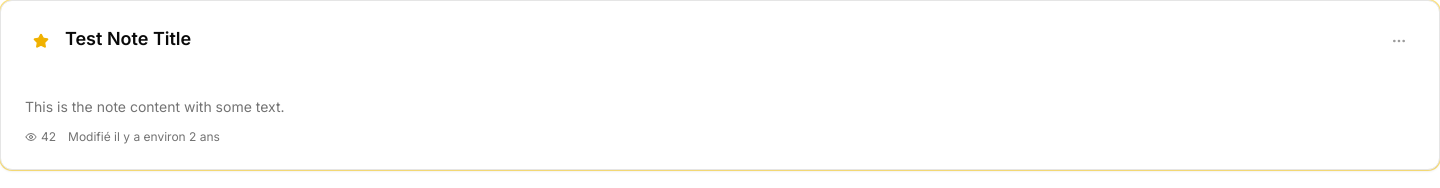
Test: NoteCard › favorite toggle (Story 6.5) › should show remove favorite option in dropdown for favorite notes
Click the button named "actions pour la note": [1399, 41] box [1383,25,1415,57]
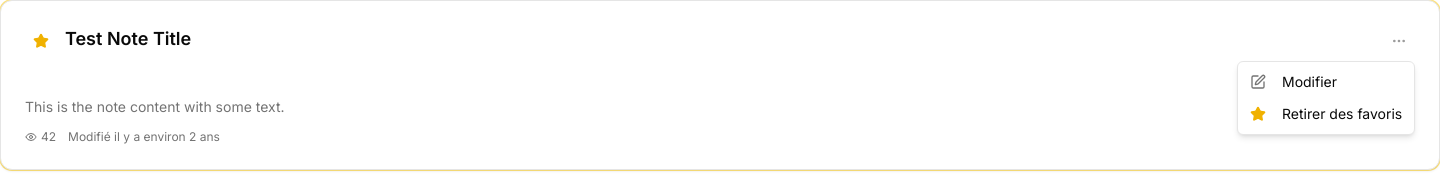
Expected: the menu item "Retirer des favoris" is shown, [1250,105,1402,122]
